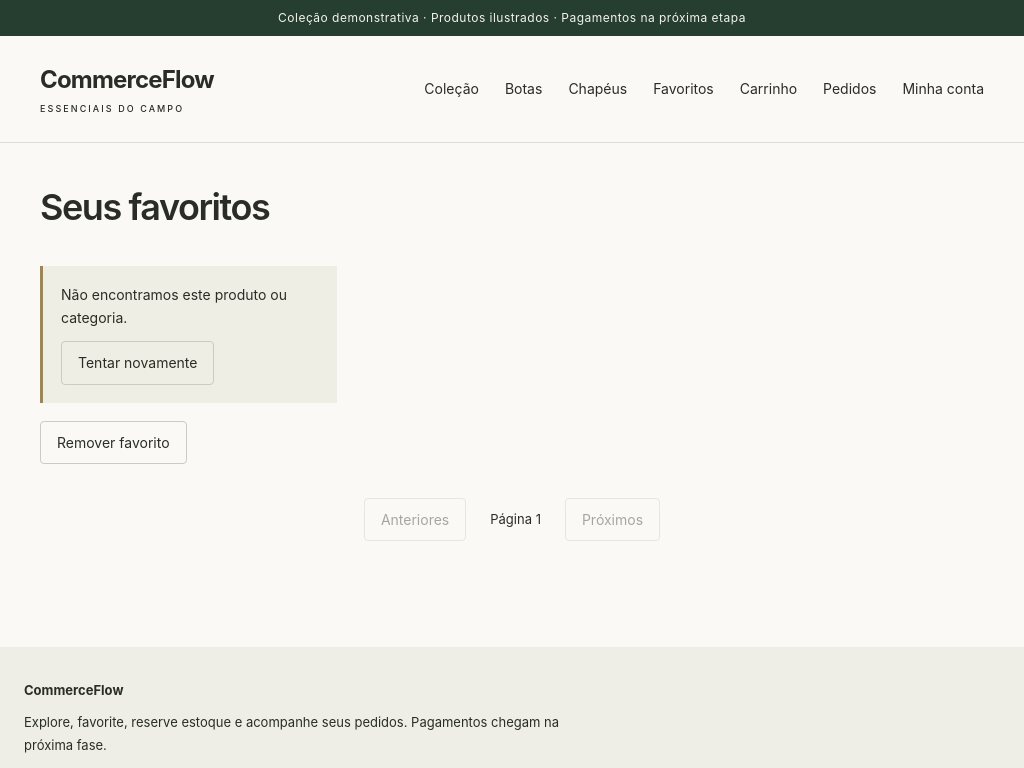
Test: Favorites and product actions › can remove a favorite whose product is no longer public
Check: the message "Não encontramos este produto ou categoria. Tentar novamente" is shown, box [40,266,337,404]
Click the button "Remover favorito" at point(113, 443), box [40,421,187,464]
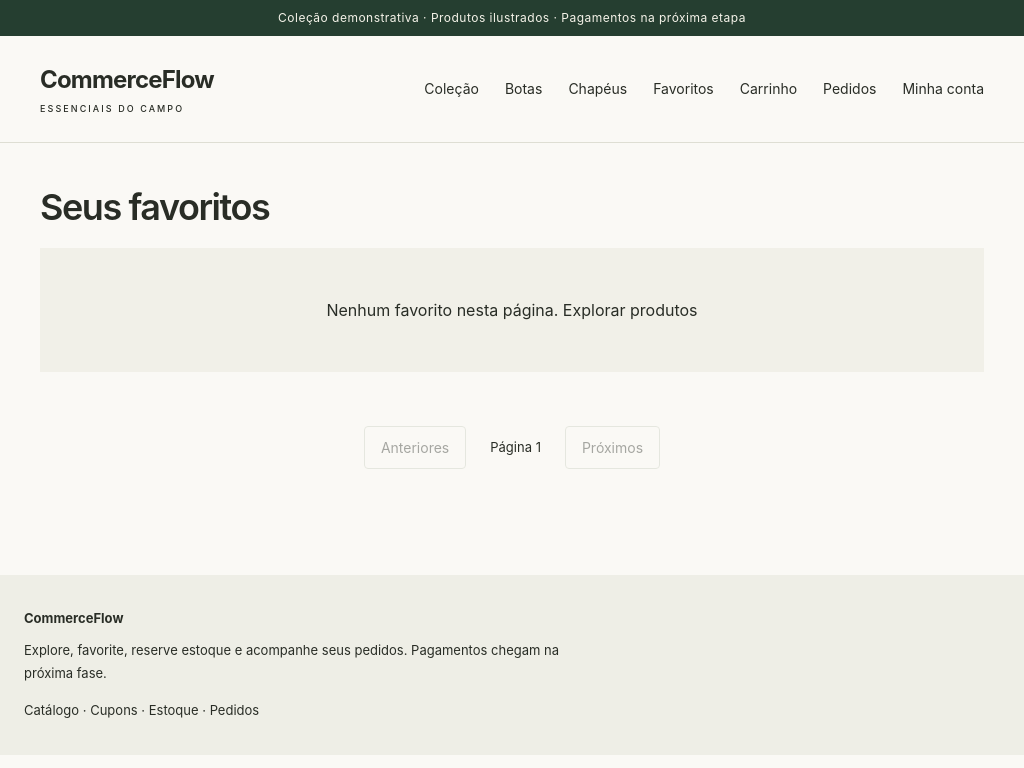
Check: the text "Nenhum favorito nesta página. Explorar produtos" is shown, box [40,248,984,372]
